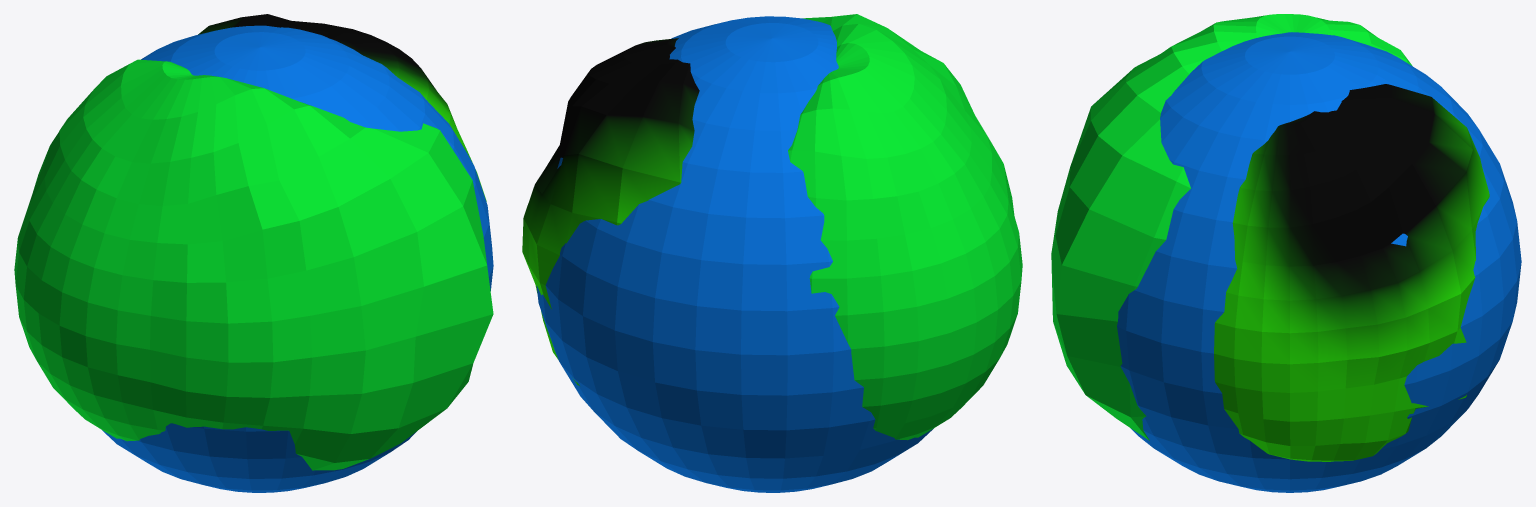
File: Tierra wtf.fbx
The picture shows the model from 3 angles, left to right: view 1: azimuth 30°, elevation 25°; view 2: azimuth 150°, elevation 25°; view 3: azimuth 270°, elevation 25°; orthographic projection. The views are drawn at different scales.
Visible parts, largest first — view 1: Sphere.001, Sphere, Sphere.002; view 2: Sphere, Sphere.001, Sphere.002; view 3: Sphere.002, Sphere, Sphere.001.
Boxes of the visible parts, box(x1,y1,x2,y2) form: Sphere.001: box(14, 59, 493, 470); Sphere: box(102, 25, 493, 492); Sphere.002: box(198, 14, 486, 201); Sphere: box(536, 16, 933, 492); Sphere.001: box(788, 14, 1022, 440); Sphere.002: box(522, 38, 699, 385); Sphere.002: box(1214, 84, 1489, 461); Sphere: box(1117, 32, 1521, 492); Sphere.001: box(1051, 14, 1412, 440).
Size of the model in its own units: 214 by 200 by 203.
